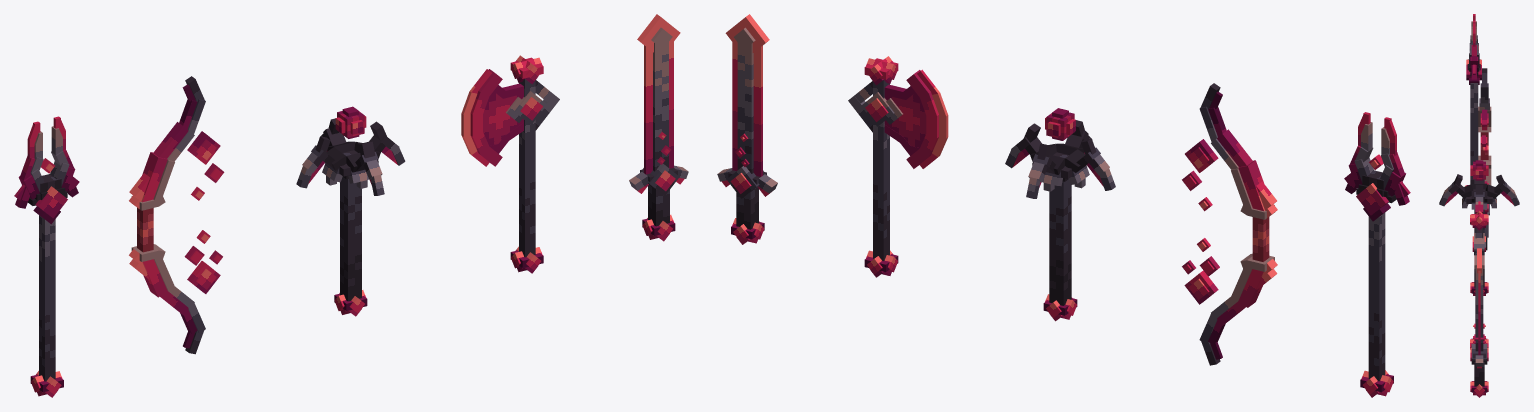
The model's file is ruby.gltf.
3 views of the same model, side by side, from view 1: azimuth 30°, elevation 25°; view 2: azimuth 150°, elevation 25°; view 3: azimuth 270°, elevation 25° (orthographic). The views are drawn at different scales.
Visible parts, largest first — view 1: cube (×11); view 2: cube (×11); view 3: cube (×29).
Part boxes in pixels (<box>): cube (×11): <box>39,14,680,381</box>; cube (×11): <box>725,14,1385,381</box>; cube (×29): <box>1452,45,1506,386</box>.
Size of the model in its own units: 6.02 by 2.36 by 0.939.
5 materials, 5 textured.
